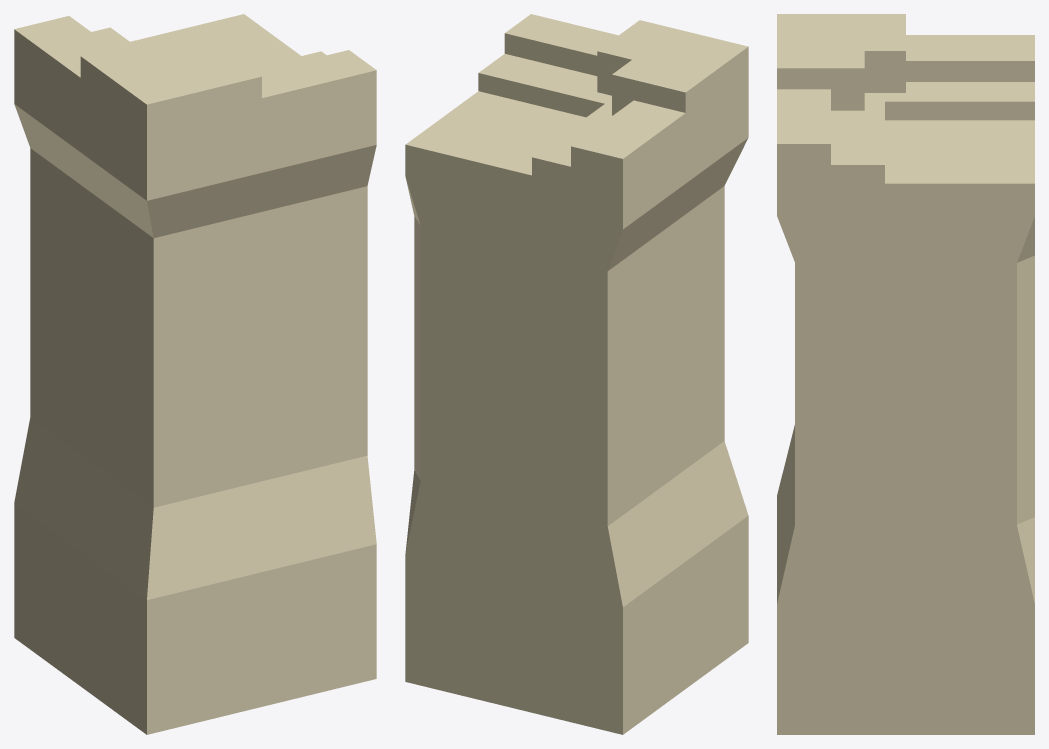
File: wallnarrowcorner.glb
3 renders of one model, left to right at view 1: azimuth 30°, elevation 25°; view 2: azimuth 150°, elevation 25°; view 3: azimuth 270°, elevation 25°, orthographic. The views are drawn at different scales.
Visible parts, largest first — view 1: wallNarrowCorner; view 2: wallNarrowCorner; view 3: wallNarrowCorner.
Boxes of the visible parts, x1=… form: wallNarrowCorner: x1=14, y1=14, x2=376, y2=734; wallNarrowCorner: x1=405, y1=14, x2=748, y2=734; wallNarrowCorner: x1=777, y1=14, x2=1034, y2=734.
Size of the model in its own units: 5 by 13.1 by 5.
